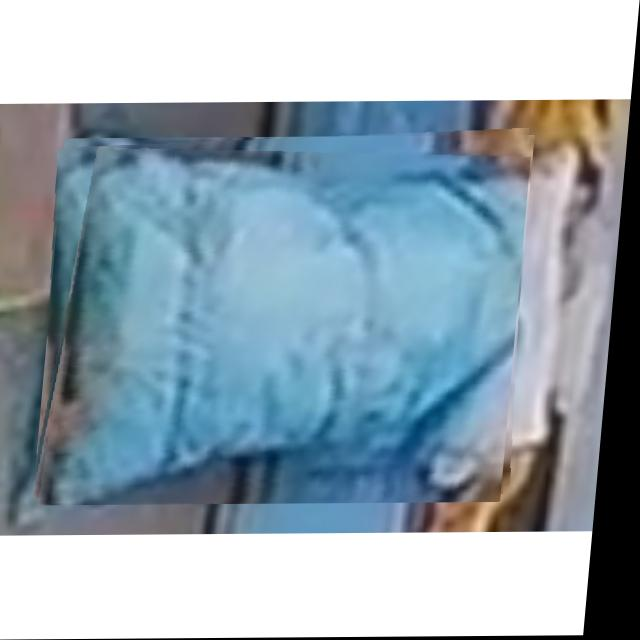other_trashbag: (63, 147, 530, 504)
